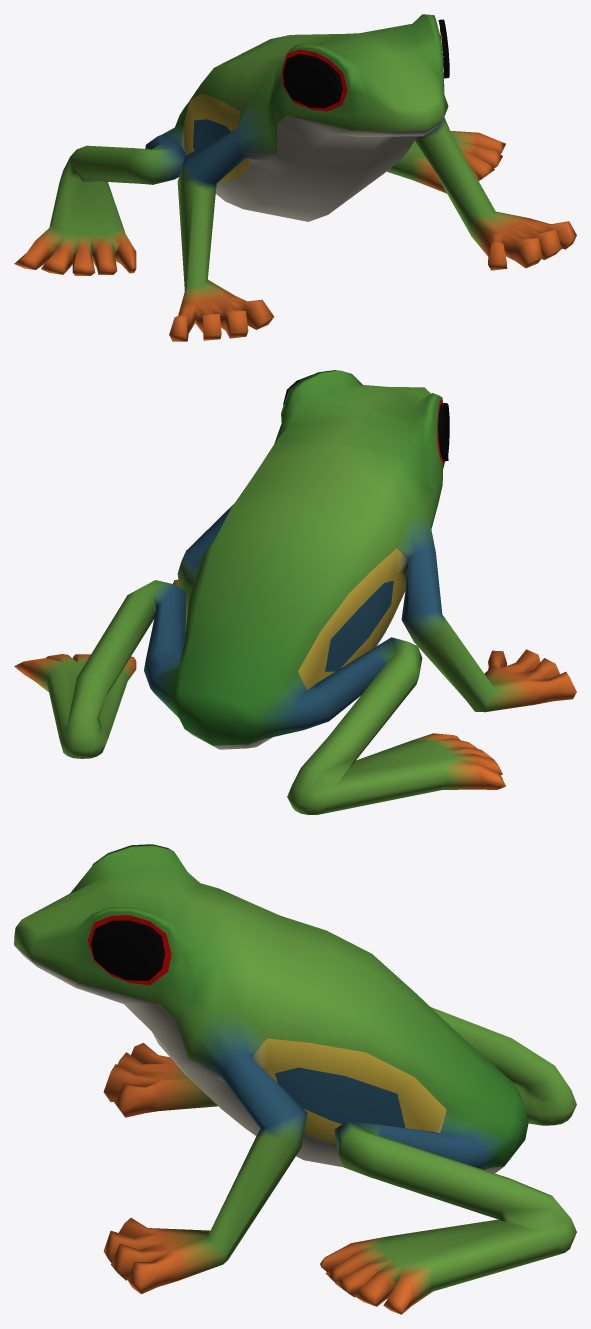
Rendered from kit-tree-frog.glb.
3 renders of one model, top to bottom at view 1: azimuth 30°, elevation 25°; view 2: azimuth 150°, elevation 25°; view 3: azimuth 270°, elevation 25°, orthographic. The views are drawn at different scales.
Parts seen in each view (by area): view 1: RedEyedTreeFrog; view 2: RedEyedTreeFrog; view 3: RedEyedTreeFrog.
Boxes of the visible parts, bbox=[...] form: RedEyedTreeFrog: bbox=[14, 14, 576, 341]; RedEyedTreeFrog: bbox=[14, 370, 576, 814]; RedEyedTreeFrog: bbox=[14, 844, 576, 1314].
Size of the model in its own units: 1.15 by 0.5837 by 0.9813.
